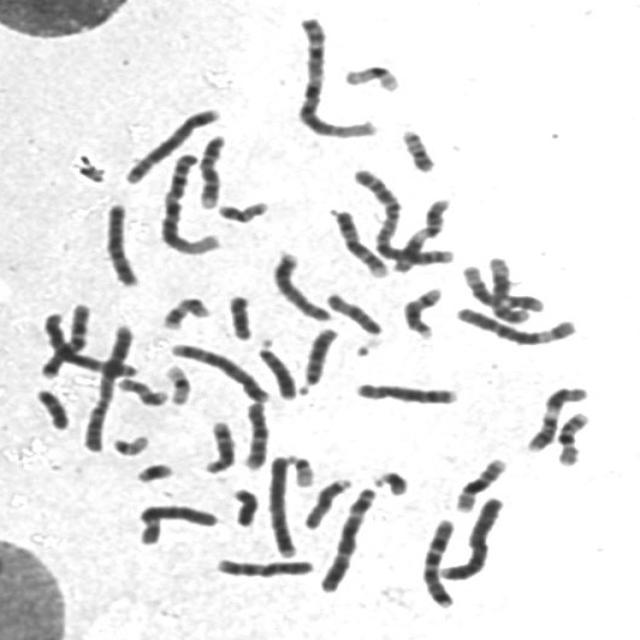A1: (291, 10, 381, 141), (154, 147, 225, 257)
A2: (348, 163, 458, 267), (77, 318, 138, 454)
A3: (39, 305, 143, 379), (316, 482, 382, 594)
B4: (435, 489, 509, 583), (263, 449, 302, 558)
B5: (119, 101, 225, 186), (165, 338, 275, 404)
C10: (210, 552, 319, 579), (237, 396, 274, 472)
C11: (390, 191, 456, 274), (522, 380, 593, 453)
C12: (456, 258, 547, 314), (479, 252, 533, 324)
C6: (450, 299, 582, 346), (132, 498, 222, 546)
C7: (35, 297, 95, 380), (416, 514, 461, 610)
C8: (267, 246, 337, 323), (349, 376, 463, 406)
C9: (326, 204, 395, 278), (193, 128, 232, 210)
D13: (296, 322, 343, 391), (253, 335, 302, 401)
D14: (397, 281, 446, 340), (198, 416, 240, 476)
D15: (298, 472, 356, 531), (322, 286, 388, 336)
E16: (450, 451, 512, 514), (551, 405, 594, 467)
E17: (157, 291, 214, 331), (113, 372, 172, 408)
E18: (30, 383, 73, 432), (222, 289, 258, 342)
F19: (338, 58, 405, 94), (159, 359, 196, 406)
F20: (396, 123, 440, 174), (212, 194, 274, 225)
G21: (368, 463, 414, 497), (130, 457, 178, 485)
G22: (283, 448, 319, 488), (106, 429, 154, 457)
X: (99, 197, 144, 289)
